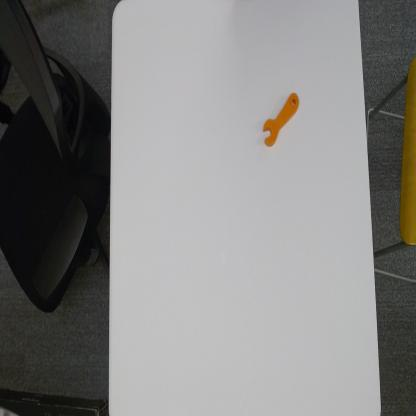Screwdriver: (261, 85, 301, 154)
